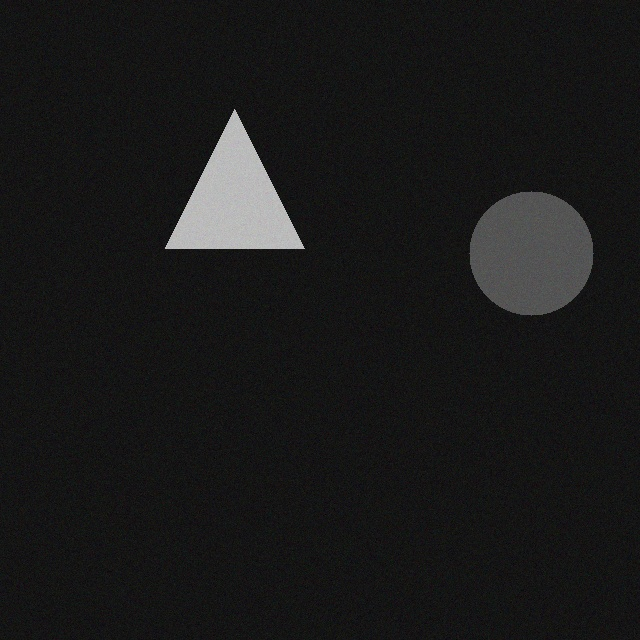circle: (464, 184, 588, 308)
triangle: (160, 102, 299, 241)
